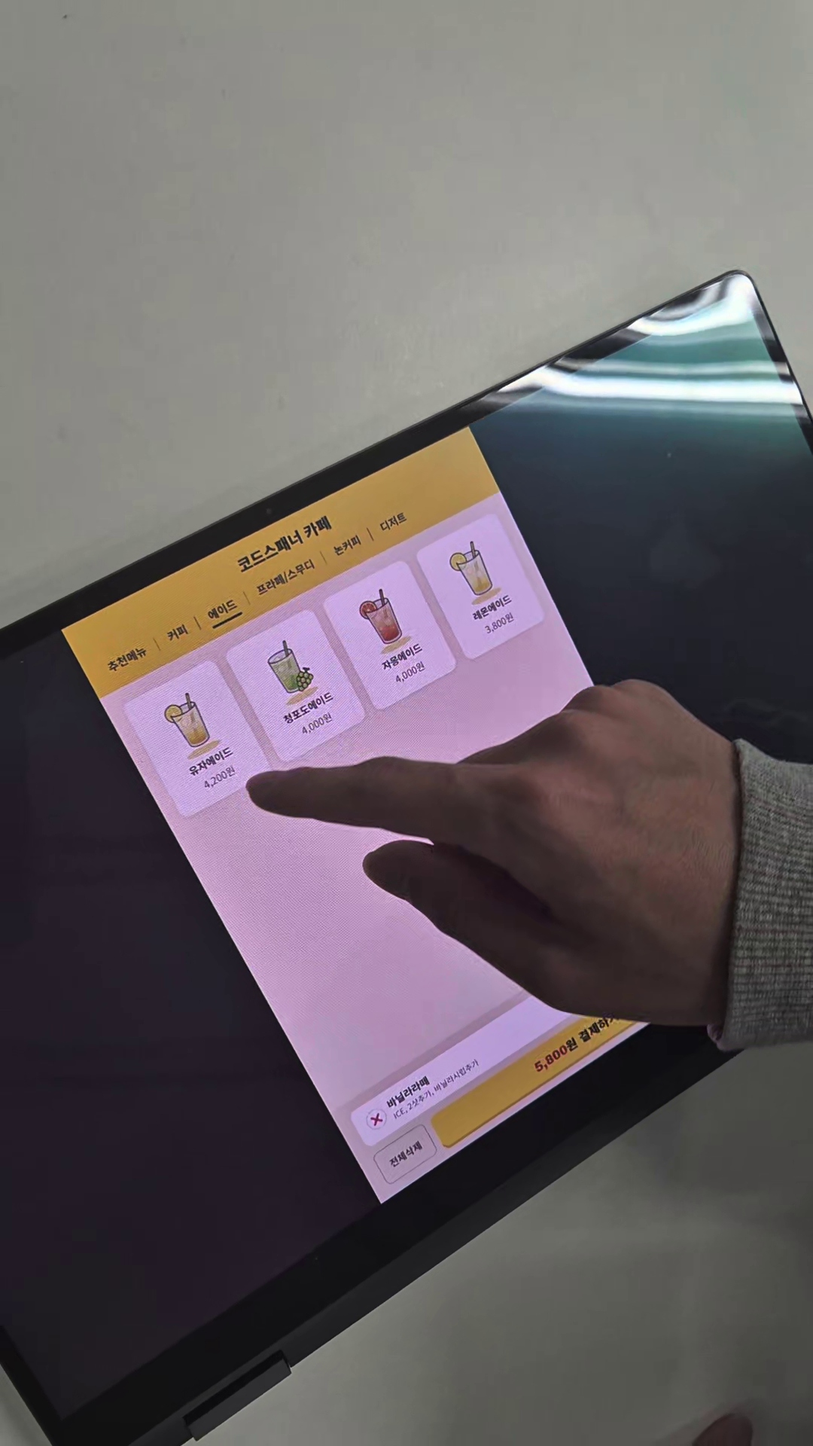action_button: (432, 954, 704, 1147), (373, 1124, 438, 1185)
cart_item: (351, 912, 685, 1147)
category_tab: (255, 557, 318, 599), (103, 641, 154, 678), (203, 595, 240, 623), (376, 509, 409, 535), (164, 620, 194, 646), (332, 534, 363, 559)
menu_back: (124, 659, 273, 819), (228, 612, 364, 761), (321, 561, 457, 708), (418, 515, 542, 657)
menu_name: (280, 686, 337, 728), (186, 743, 235, 779), (377, 640, 426, 676), (467, 589, 516, 625)
menu_price: (199, 762, 239, 792), (295, 709, 335, 739), (478, 609, 518, 639), (389, 659, 429, 688)
